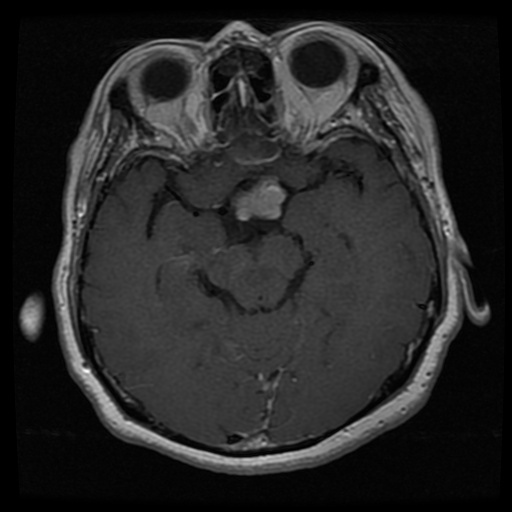pituitary: (235, 182, 286, 219)
